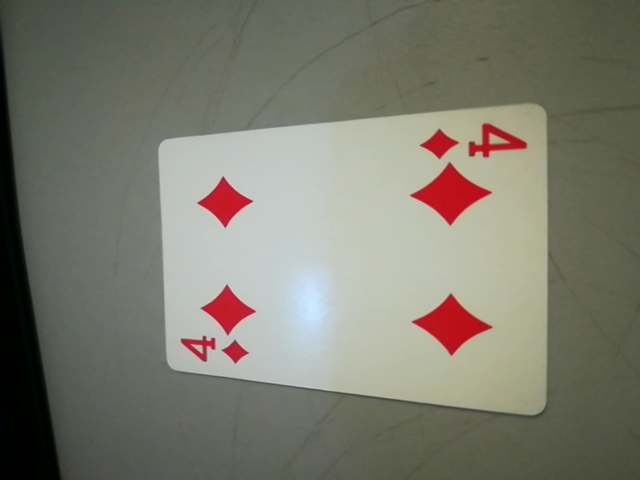fk 4: (422, 121, 530, 165)
